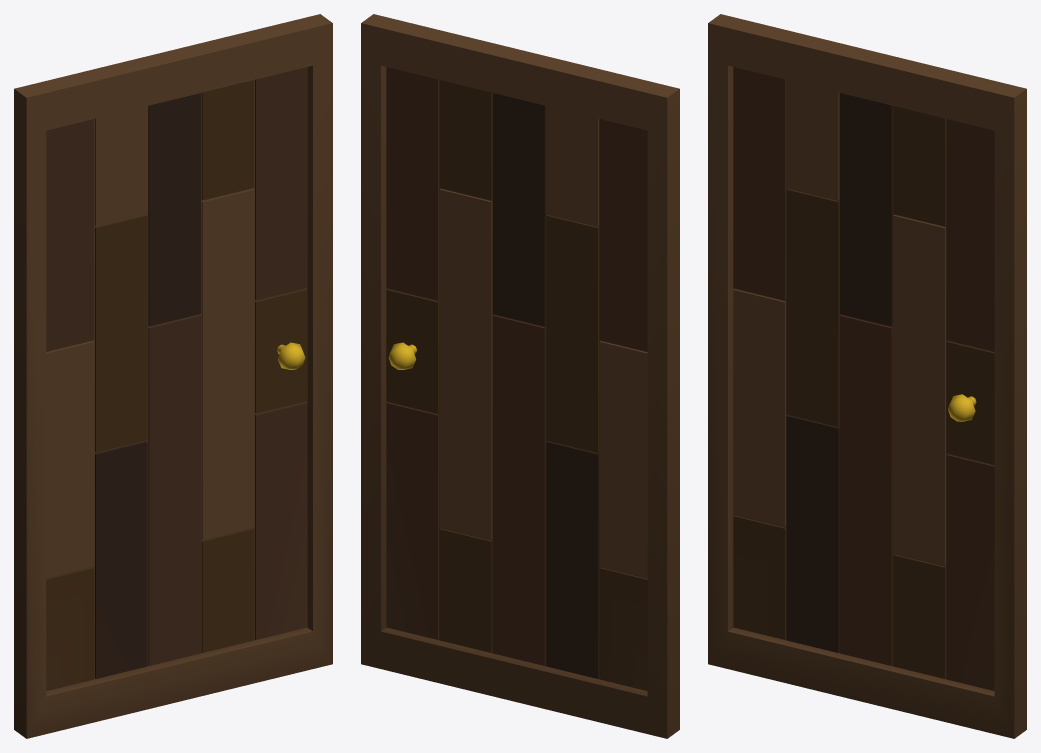
Rendered from Door.fbx.
3 views of the same model, side by side, from view 1: azimuth 30°, elevation 25°; view 2: azimuth 150°, elevation 25°; view 3: azimuth 330°, elevation 25° (orthographic).
Parts seen in each view (by area): view 1: Door; view 2: Door; view 3: Door.
Part boxes in pixels (x1,y1,x2,y2): Door: [14, 14, 332, 738]; Door: [361, 14, 679, 738]; Door: [708, 14, 1026, 738].
Size of the model in its own units: 100 by 200 by 21.17.
